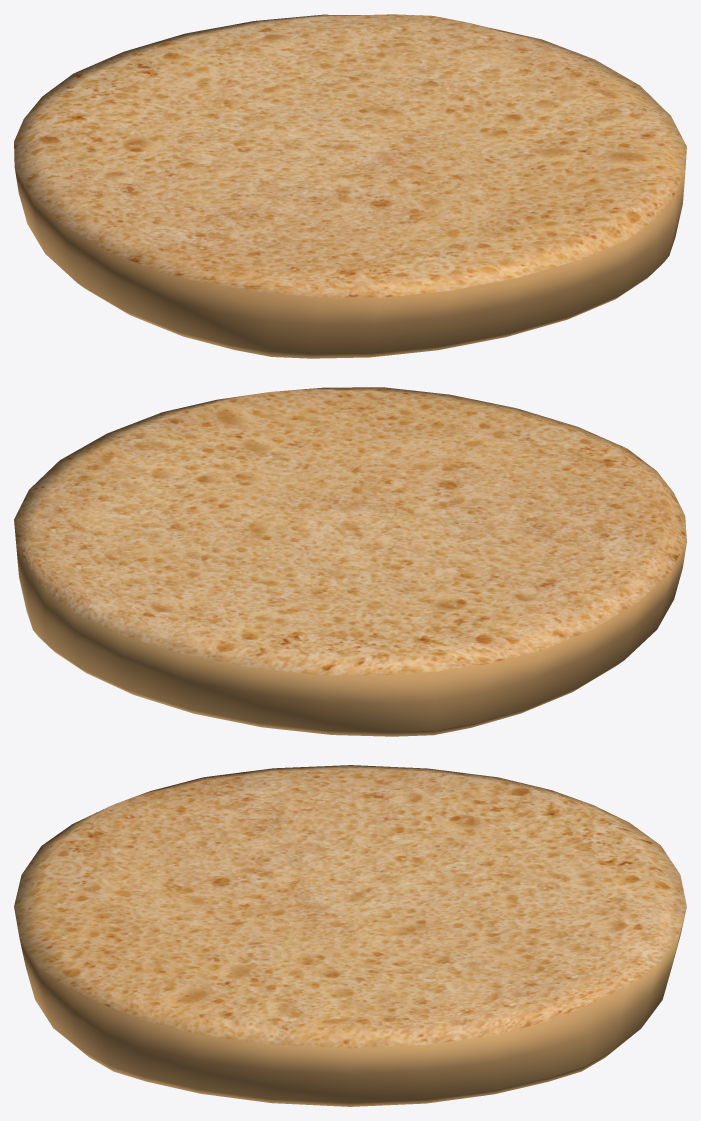
File: Burger_Bun_Base.fbx
3 renders of one model, top to bottom at view 1: azimuth 30°, elevation 25°; view 2: azimuth 150°, elevation 25°; view 3: azimuth 270°, elevation 25°, orthographic.
Parts seen in each view (by area): view 1: Burger_Bun_Base; view 2: Burger_Bun_Base; view 3: Burger_Bun_Base.
Boxes of the visible parts, x1=… form: Burger_Bun_Base: x1=14, y1=14, x2=686, y2=358; Burger_Bun_Base: x1=14, y1=387, x2=686, y2=736; Burger_Bun_Base: x1=14, y1=765, x2=686, y2=1106.
Size of the model in its own units: 0.6223 by 0.0801 by 0.6245.
